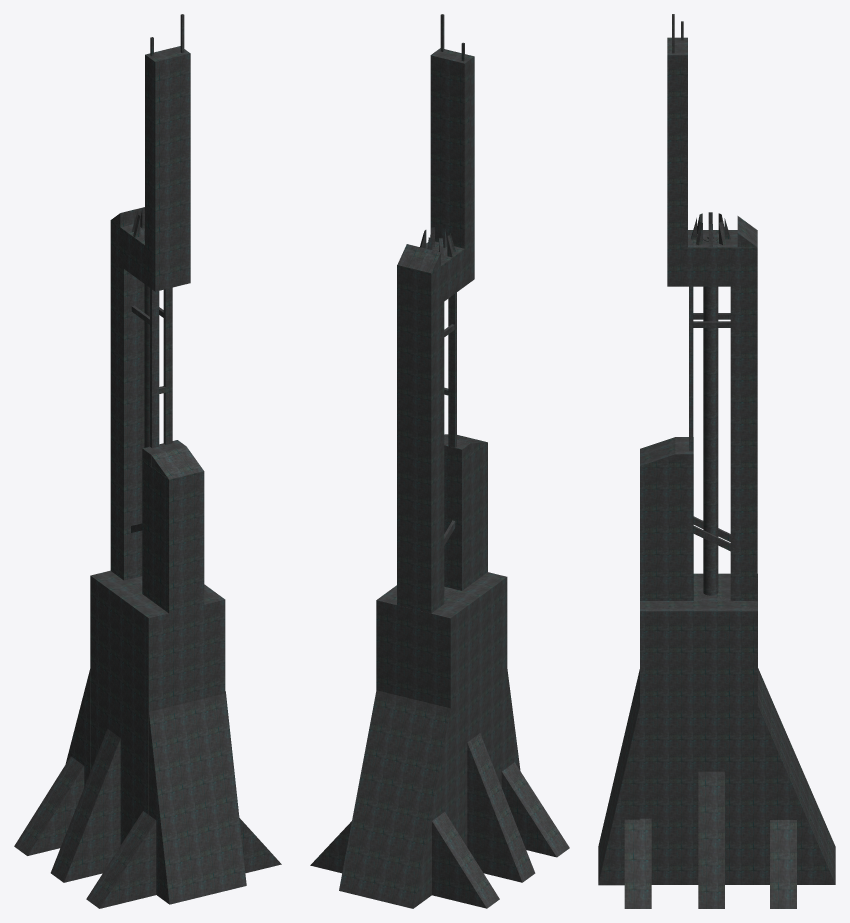
File: my_stylized_citadel_for_hl2.glb
3 renders of one model, left to right at view 1: azimuth 30°, elevation 25°; view 2: azimuth 150°, elevation 25°; view 3: azimuth 270°, elevation 25°, orthographic. The views are drawn at different scales.
Parts seen in each view (by area): view 1: Object_2; view 2: Object_2; view 3: Object_2.
Boxes of the visible parts, x1,y1,x2,y2 form: Object_2: (14,14,281,908); Object_2: (310,14,569,908); Object_2: (598,14,835,908).
Bounding box in the file's own units: 70.6 × 314 × 78.97.
1 material, 1 textured.
